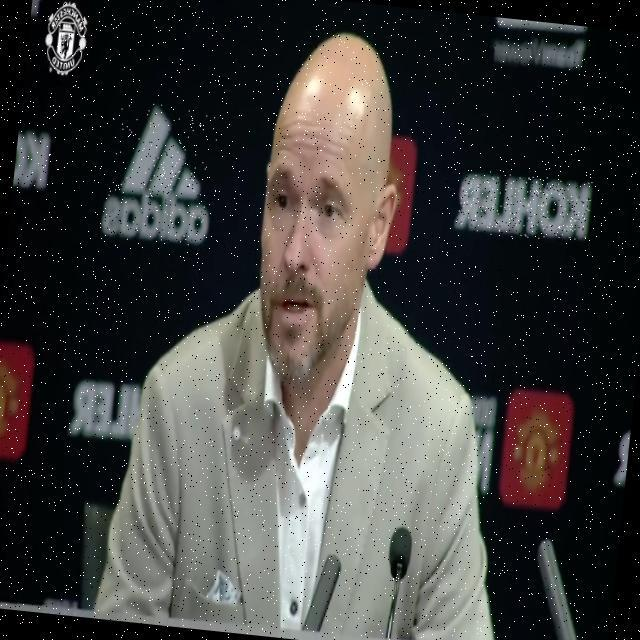Adidas: (99, 100, 220, 250)
Kohler: (454, 168, 594, 245)
TeamViewer: (489, 17, 587, 72)
